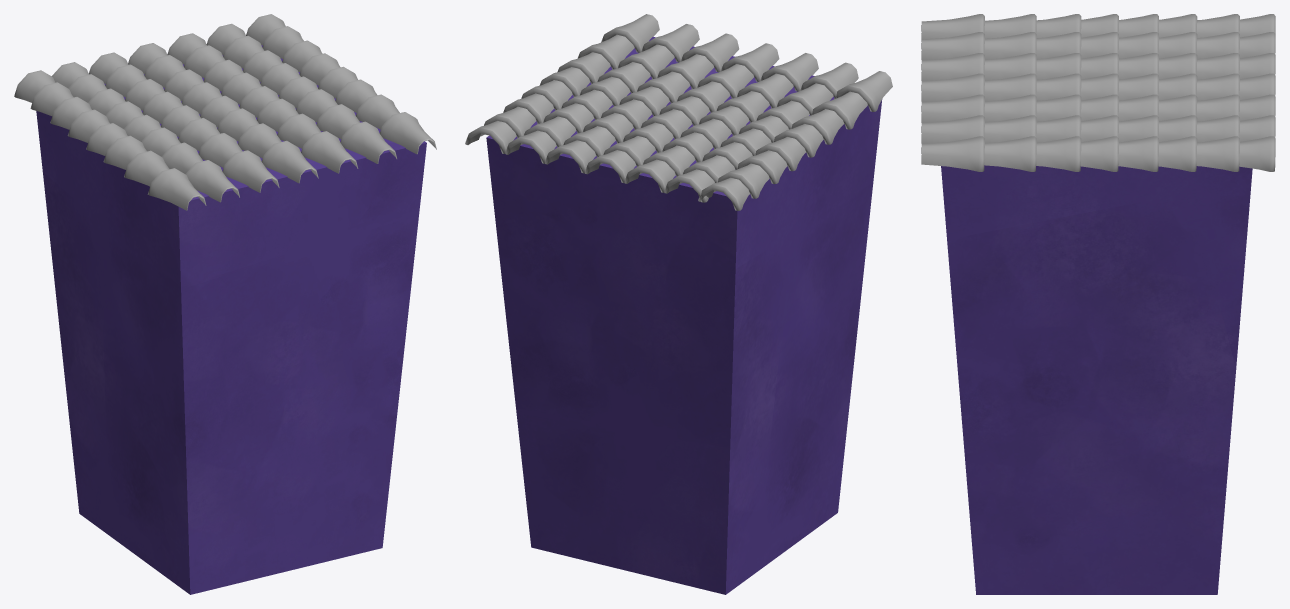
Rendered from bat5.fbx.
3 renders of one model, left to right at view 1: azimuth 30°, elevation 25°; view 2: azimuth 150°, elevation 25°; view 3: azimuth 270°, elevation 25°, orthographic. The views are drawn at different scales.
Parts seen in each view (by area): view 1: pCube66; view 2: pCube66; view 3: pCube66.
Boxes of the visible parts, <box> form: pCube66: <box>14,14,436,594</box>; pCube66: <box>465,14,892,594</box>; pCube66: <box>921,14,1275,594</box>.
Size of the model in its own units: 10.43 by 15.66 by 10.81.
